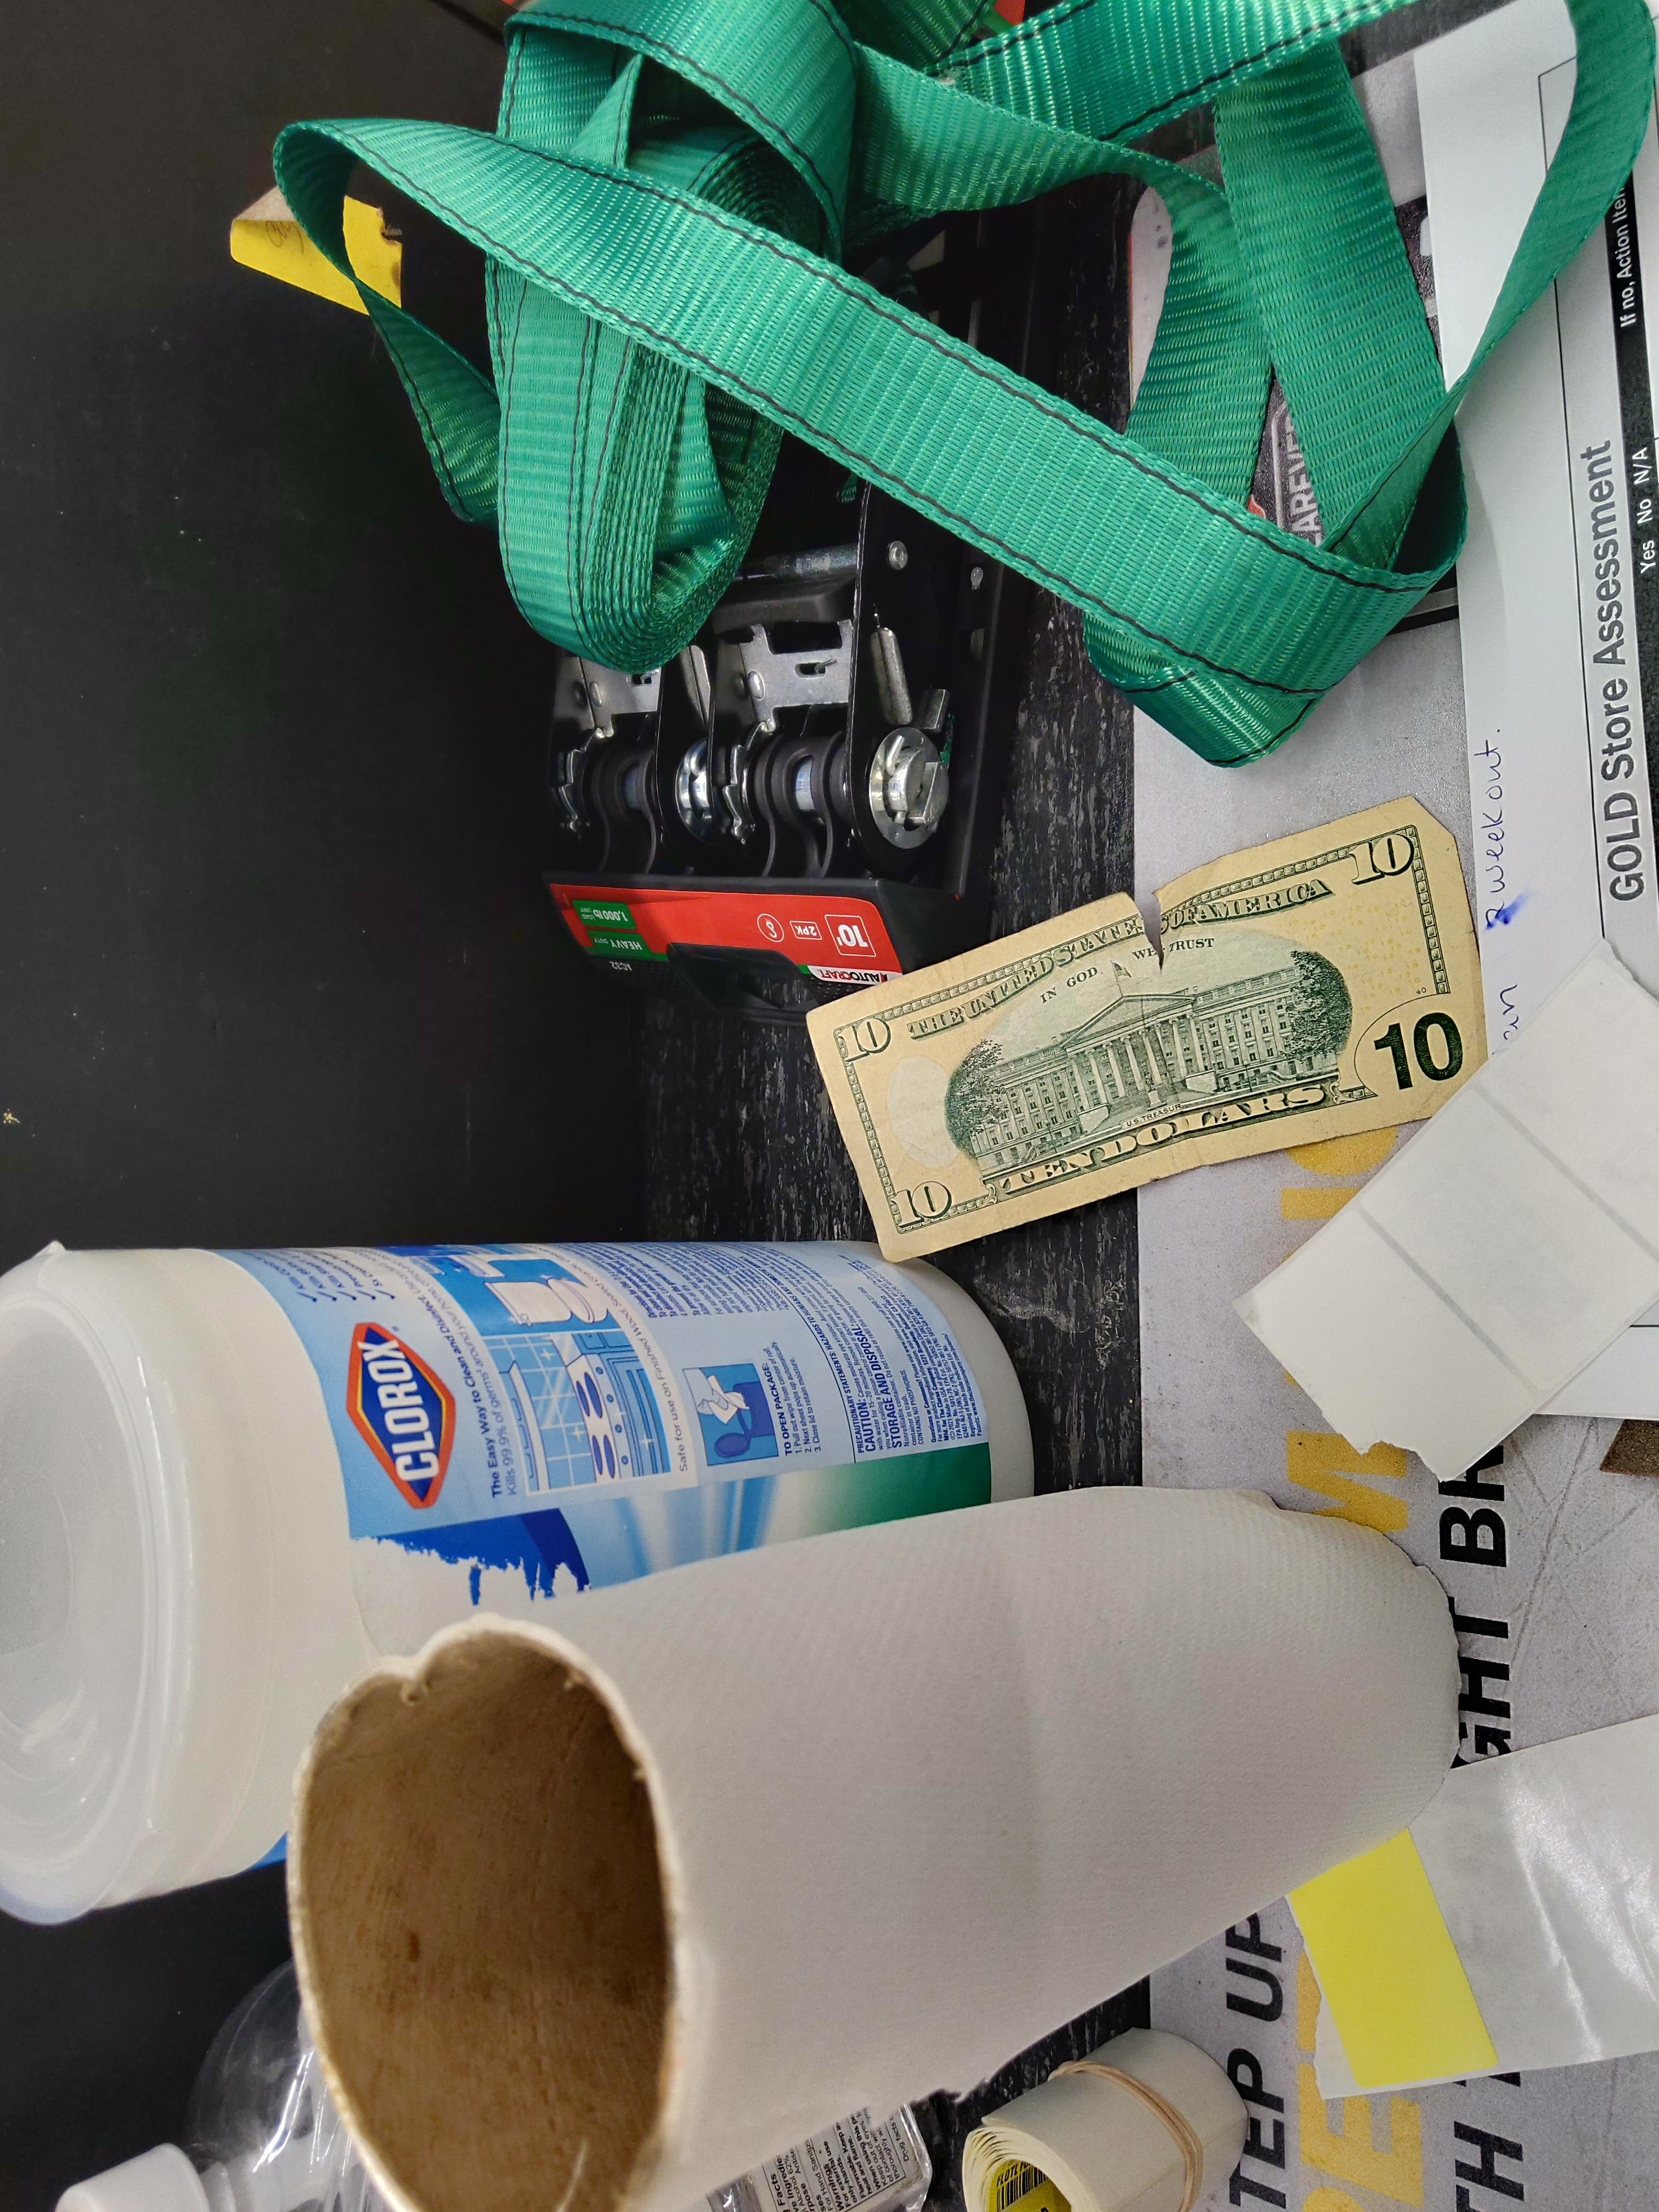TenBill: (807, 792, 1486, 1266)
